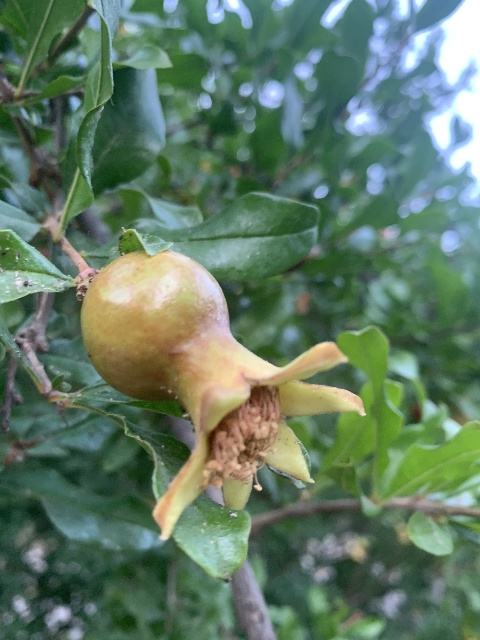mid-growth: (81, 251, 365, 541)
